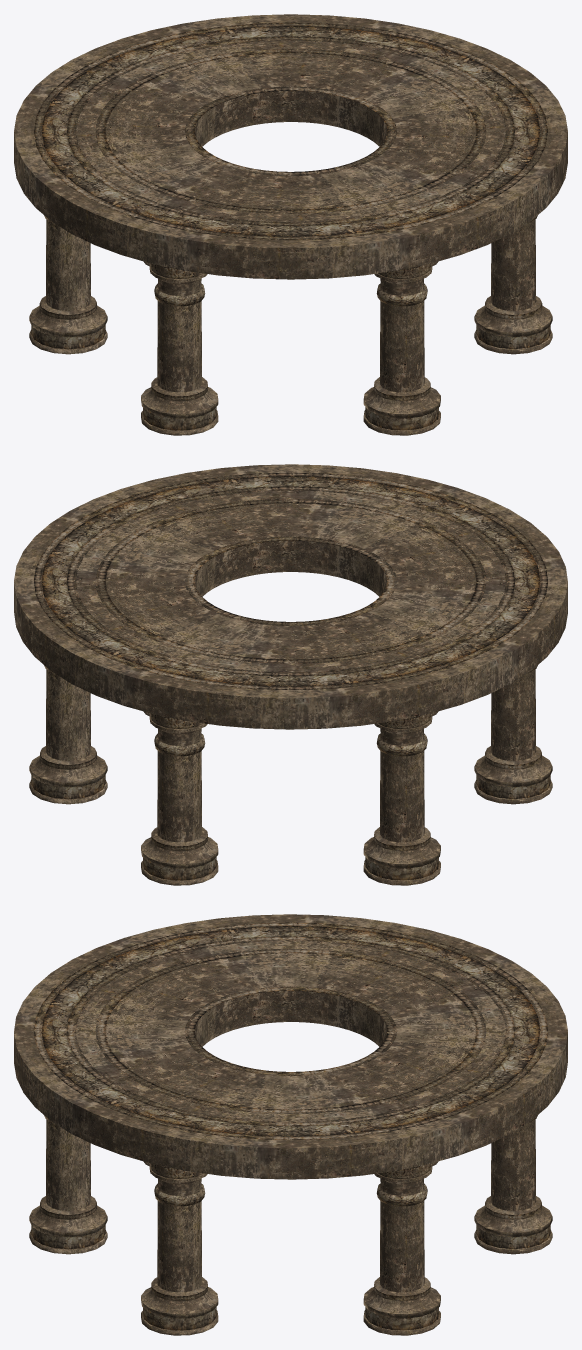
Rendered from materials_5_table_1.fbx.
3 views of the same model, one above another, from view 1: azimuth 30°, elevation 25°; view 2: azimuth 150°, elevation 25°; view 3: azimuth 270°, elevation 25° (orthographic).
Parts seen in each view (by area): view 1: materials_5_table_1; view 2: materials_5_table_1; view 3: materials_5_table_1.
Boxes of the visible parts, x1,y1,x2,y2 form: materials_5_table_1: [14, 14, 567, 435]; materials_5_table_1: [14, 464, 567, 885]; materials_5_table_1: [14, 914, 567, 1335].
Bounding box in the file's own units: 171 × 70.46 × 171.
